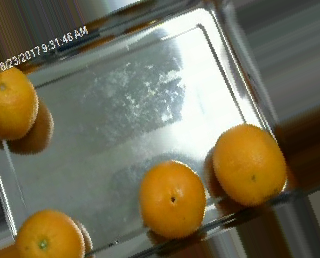Orange: (213, 124, 288, 205), (139, 159, 207, 238), (14, 209, 86, 258)
